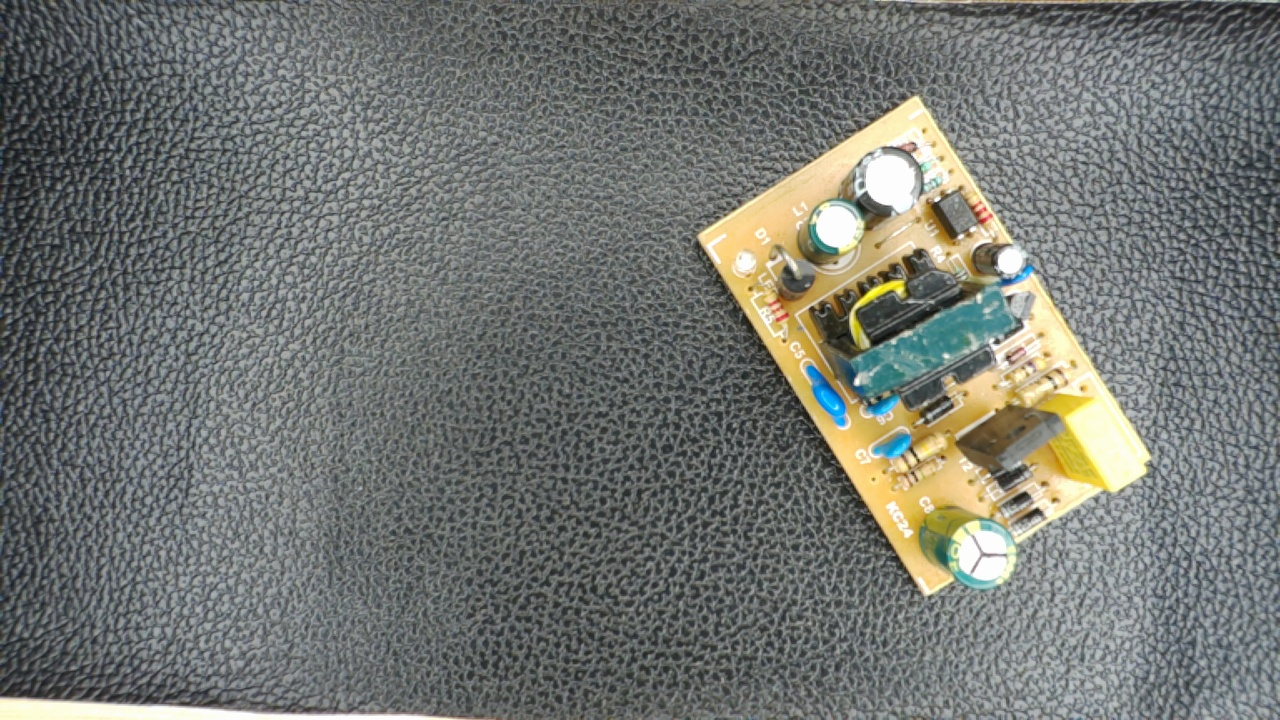hv_capacitor: (915, 503, 1014, 590)
mov: (804, 357, 849, 428)
optocoupler: (927, 186, 981, 245)
